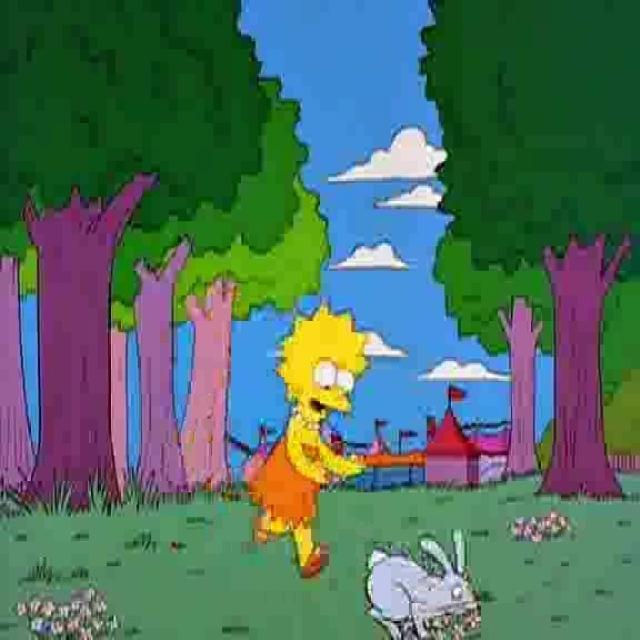Lisa Simpson: (277, 300, 372, 426)
